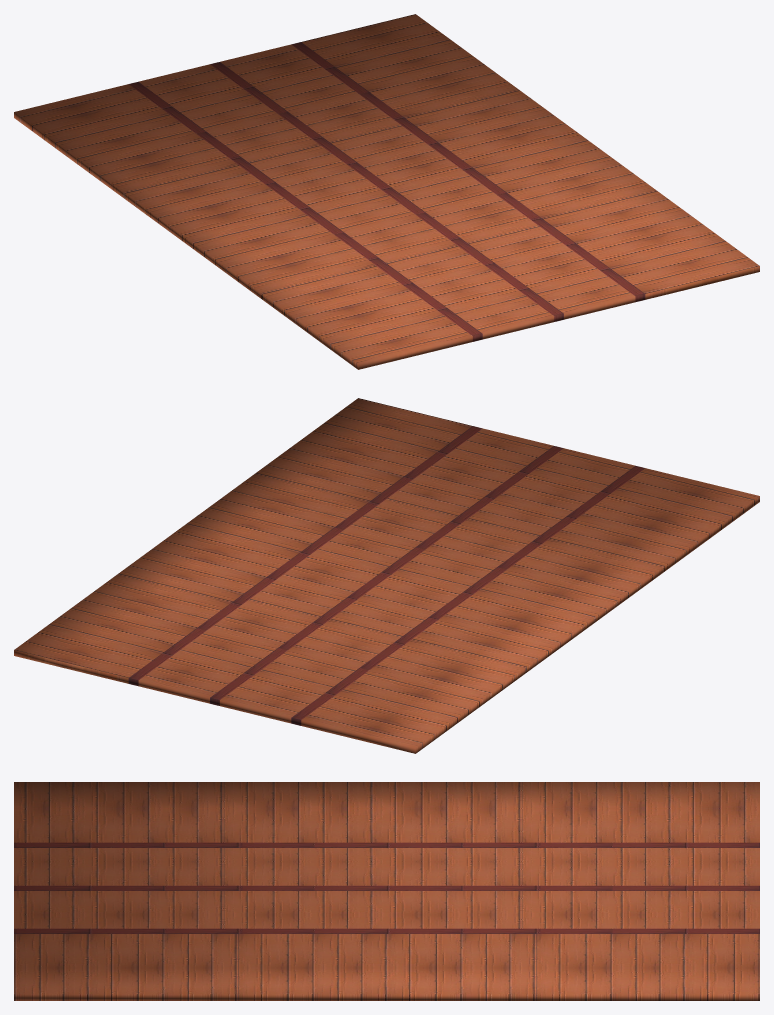
Rendered from room-floor.glb.
The picture shows the model from 3 angles, top to bottom: view 1: azimuth 30°, elevation 25°; view 2: azimuth 150°, elevation 25°; view 3: azimuth 270°, elevation 25°; orthographic projection. The views are drawn at different scales.
Visible parts, largest first — view 1: RoomFloor; view 2: RoomFloor; view 3: RoomFloor.
Part boxes in pixels (box(x1,y1,x2,y2)): RoomFloor: box(14, 14, 759, 369); RoomFloor: box(14, 398, 759, 753); RoomFloor: box(14, 782, 759, 1000).
Bounding box in the file's own units: 10.79 × 0.1506 × 16.02.
1 material, 1 textured.
